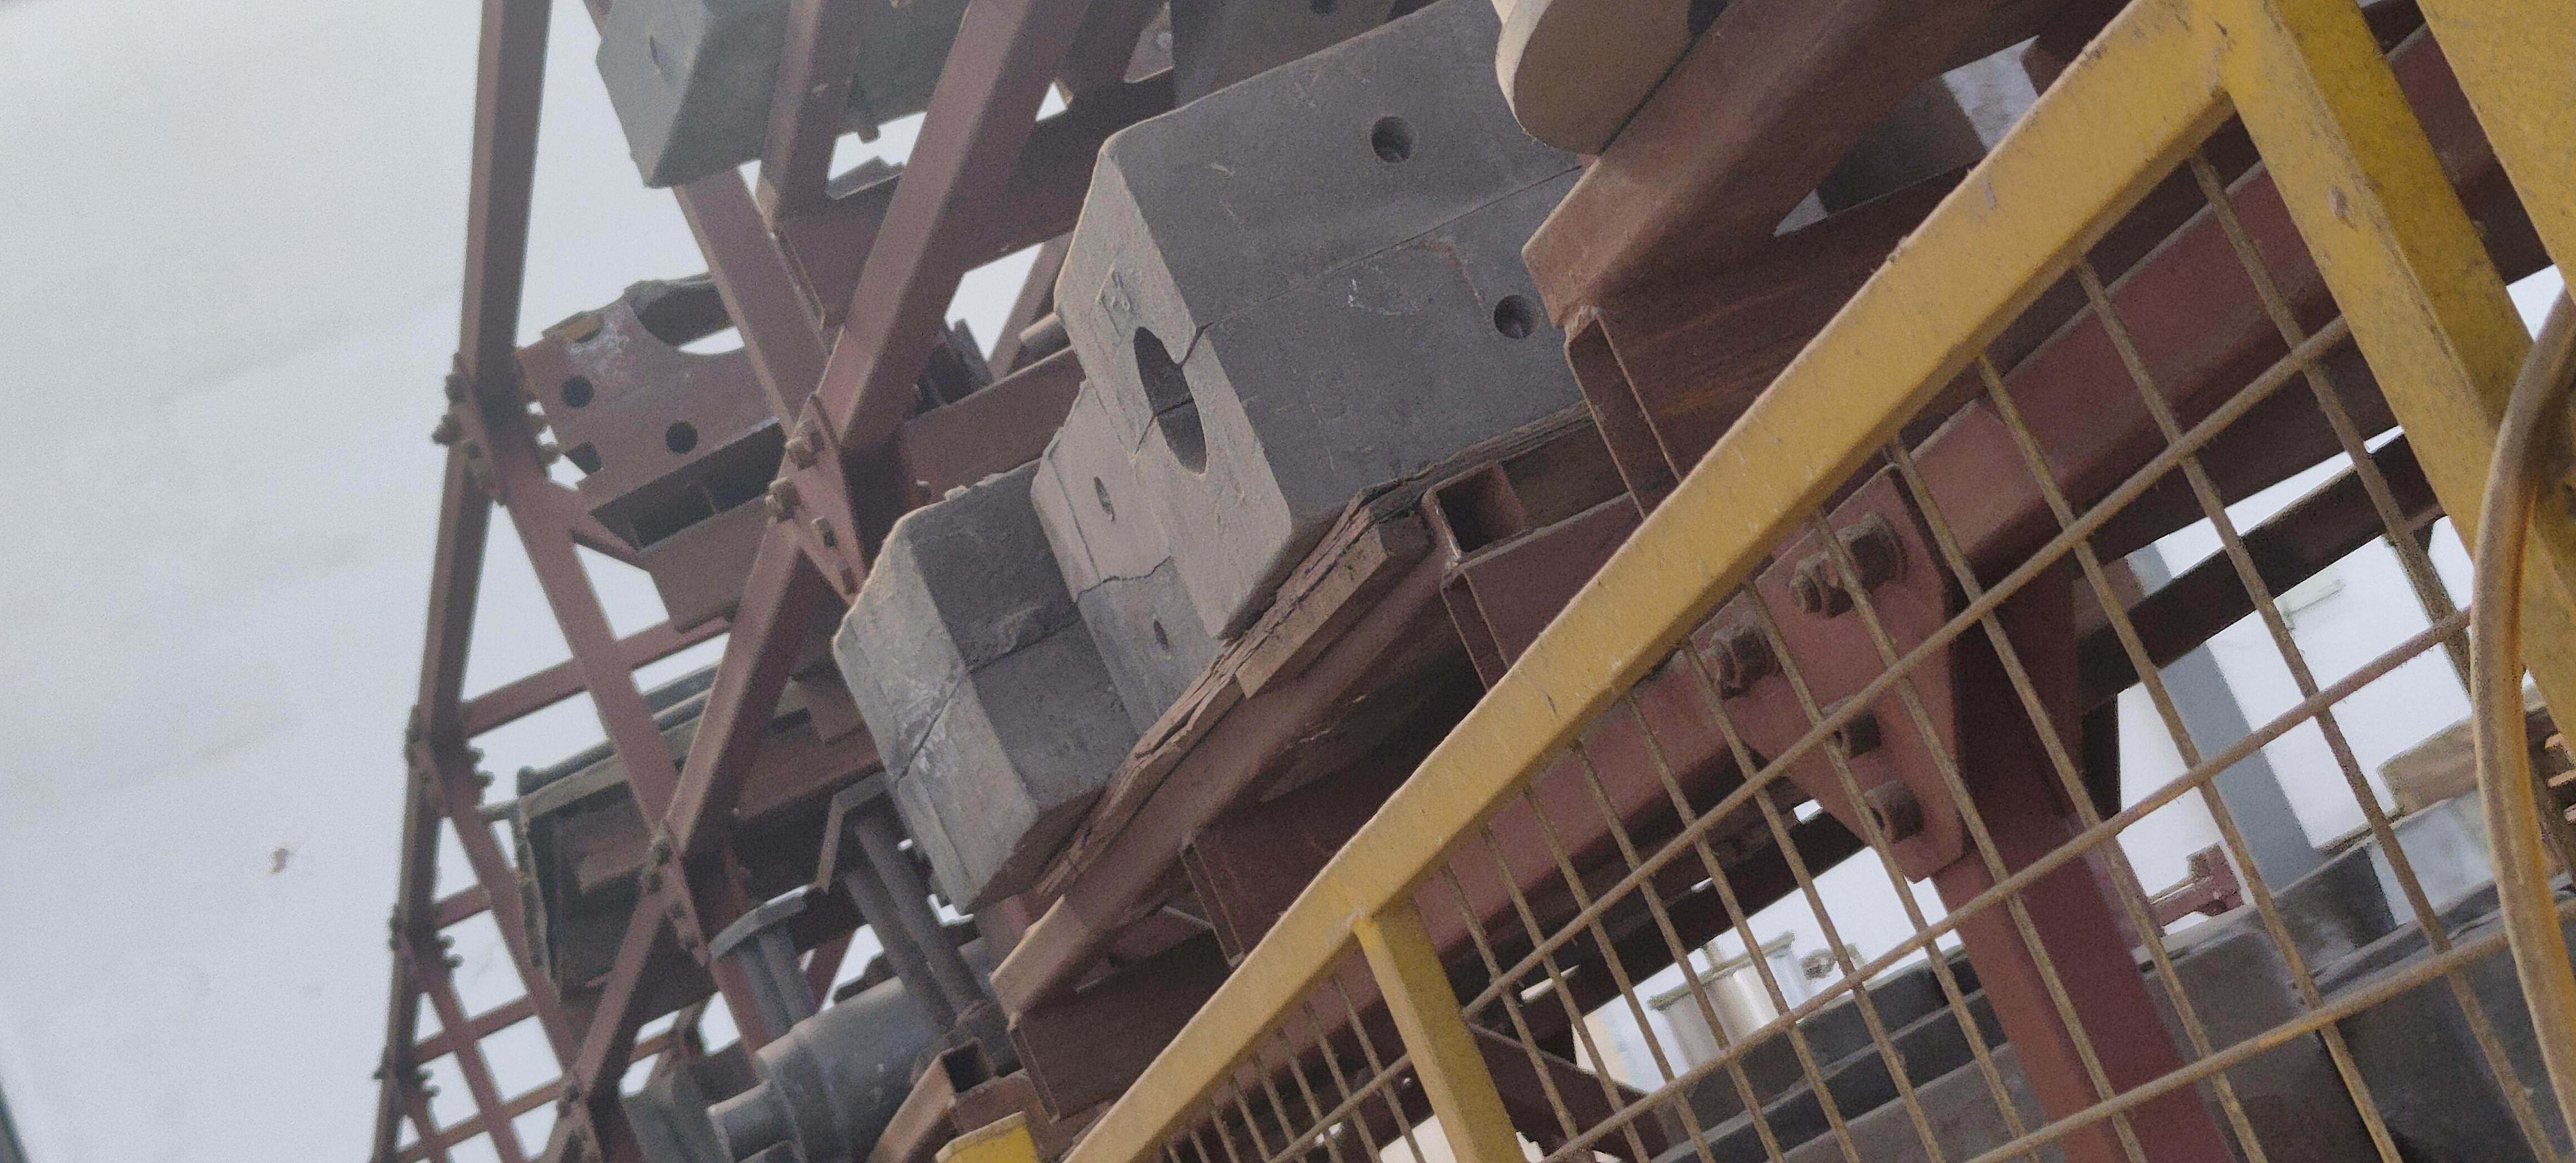pouring hole: (1132, 325, 1207, 475)
